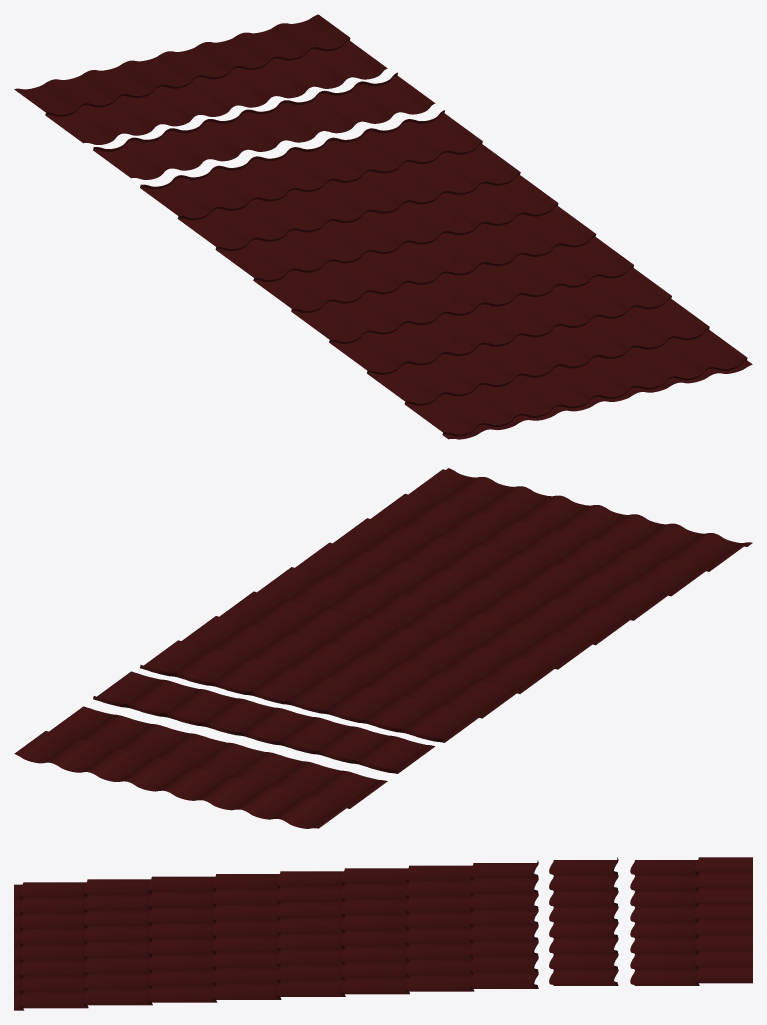
Rendered from metal roof tiles.FBX.
The picture shows the model from 3 angles, top to bottom: view 1: azimuth 30°, elevation 25°; view 2: azimuth 150°, elevation 25°; view 3: azimuth 270°, elevation 25°; orthographic projection. The views are drawn at different scales.
Visible parts, largest first — view 1: metal roof tiles; view 2: metal roof tiles; view 3: metal roof tiles.
Part boxes in pixels (x1=…): metal roof tiles: x1=14, y1=14, x2=752, y2=439; metal roof tiles: x1=14, y1=468, x2=752, y2=828; metal roof tiles: x1=14, y1=857, x2=752, y2=1010.
Size of the model in its own units: 1577 by 179 by 3897.
